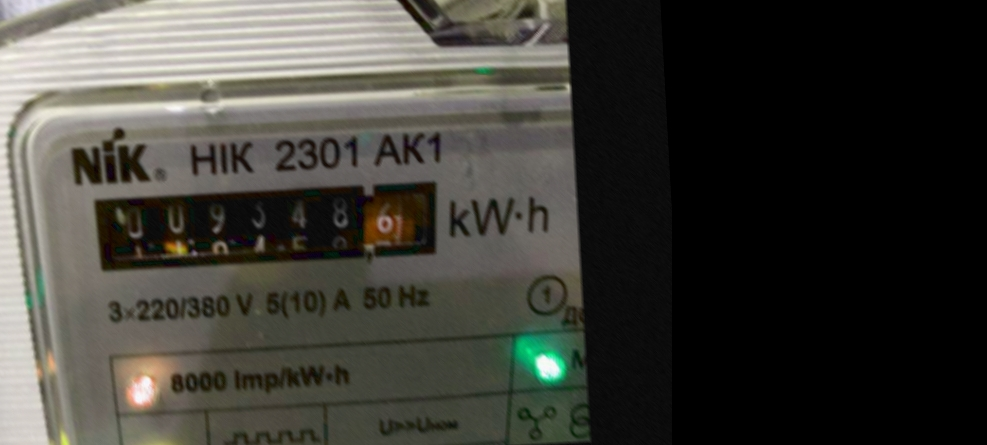0: (162, 200, 185, 237), (122, 204, 143, 240)
3: (244, 196, 268, 229)
4: (284, 194, 307, 232)
6: (372, 199, 395, 234)
8: (327, 194, 349, 229)
9: (205, 198, 225, 233)
screen: (68, 165, 458, 288)
